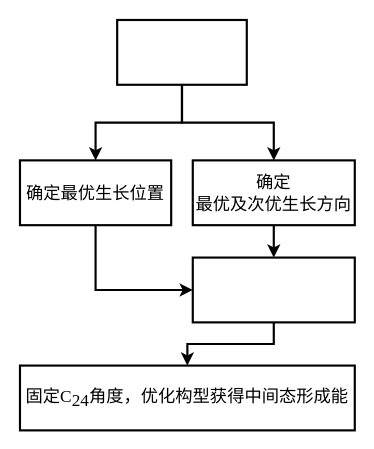
The diagram is 374 pixels wide and 449 high, and some of its shapes have lost their labels. The box of each missing label's shape, as (x1, y1, x2, y2) in pixels:
枚举生长位置和各生长位置角度: (116, 18, 247, 85)
线性插值获得 中间态碳原子坐标: (191, 256, 355, 323)
